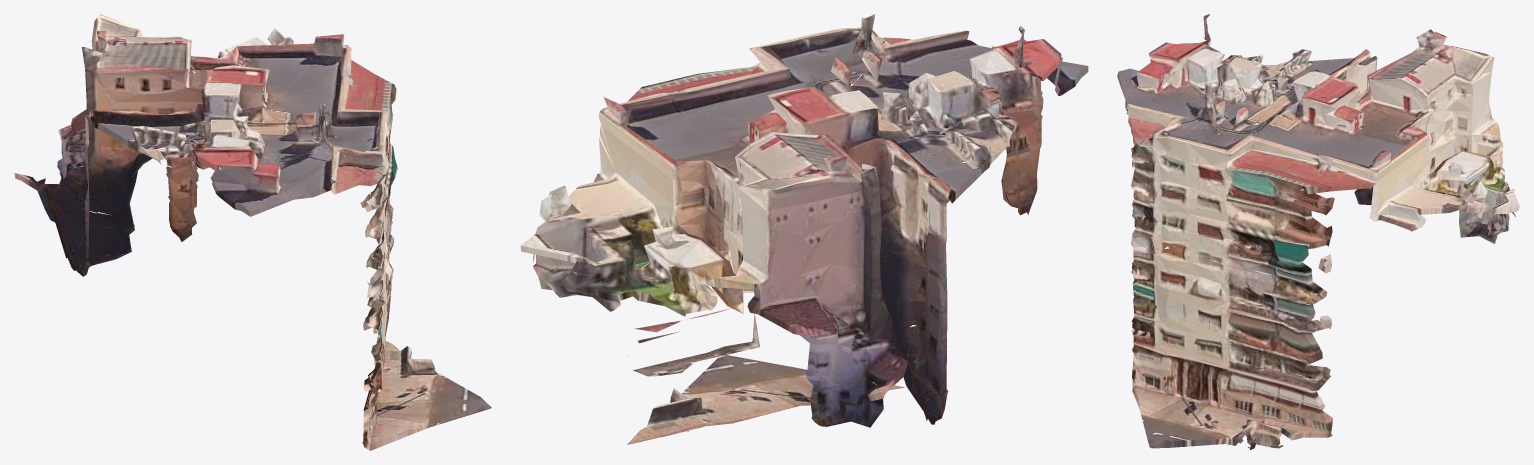
3 renders of one model, left to right at view 1: azimuth 30°, elevation 25°; view 2: azimuth 150°, elevation 25°; view 3: azimuth 270°, elevation 25°, orthographic. The views are drawn at different scales.
Visible parts, largest first — view 1: Mesh_0; view 2: Mesh_0; view 3: Mesh_0.
Part boxes in pixels (x1,y1,x2,y2): Mesh_0: (14, 14, 491, 450); Mesh_0: (520, 14, 1088, 444); Mesh_0: (1117, 14, 1519, 449).
Bounding box in the file's own units: 33.46 × 36.85 × 41.36.
1 material, 1 textured.
